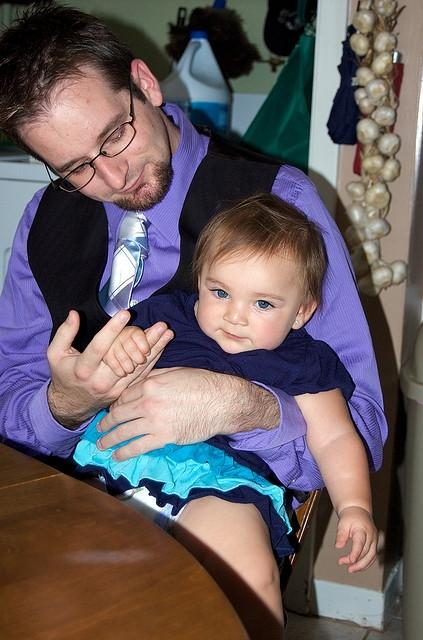garlic: (377, 258, 407, 284), (344, 204, 376, 228), (364, 182, 390, 209), (370, 52, 394, 80), (353, 240, 380, 264), (351, 10, 377, 34), (373, 26, 396, 52), (356, 118, 379, 144), (342, 224, 366, 248), (358, 273, 382, 297), (364, 80, 390, 102), (364, 218, 390, 240), (378, 158, 400, 184), (370, 106, 397, 126), (378, 133, 400, 156), (370, 266, 393, 288), (349, 252, 370, 276), (349, 33, 369, 56), (344, 181, 366, 201), (362, 155, 384, 174), (356, 67, 376, 86), (374, 0, 397, 16), (353, 88, 368, 106), (360, 98, 376, 114), (360, 146, 380, 158)
